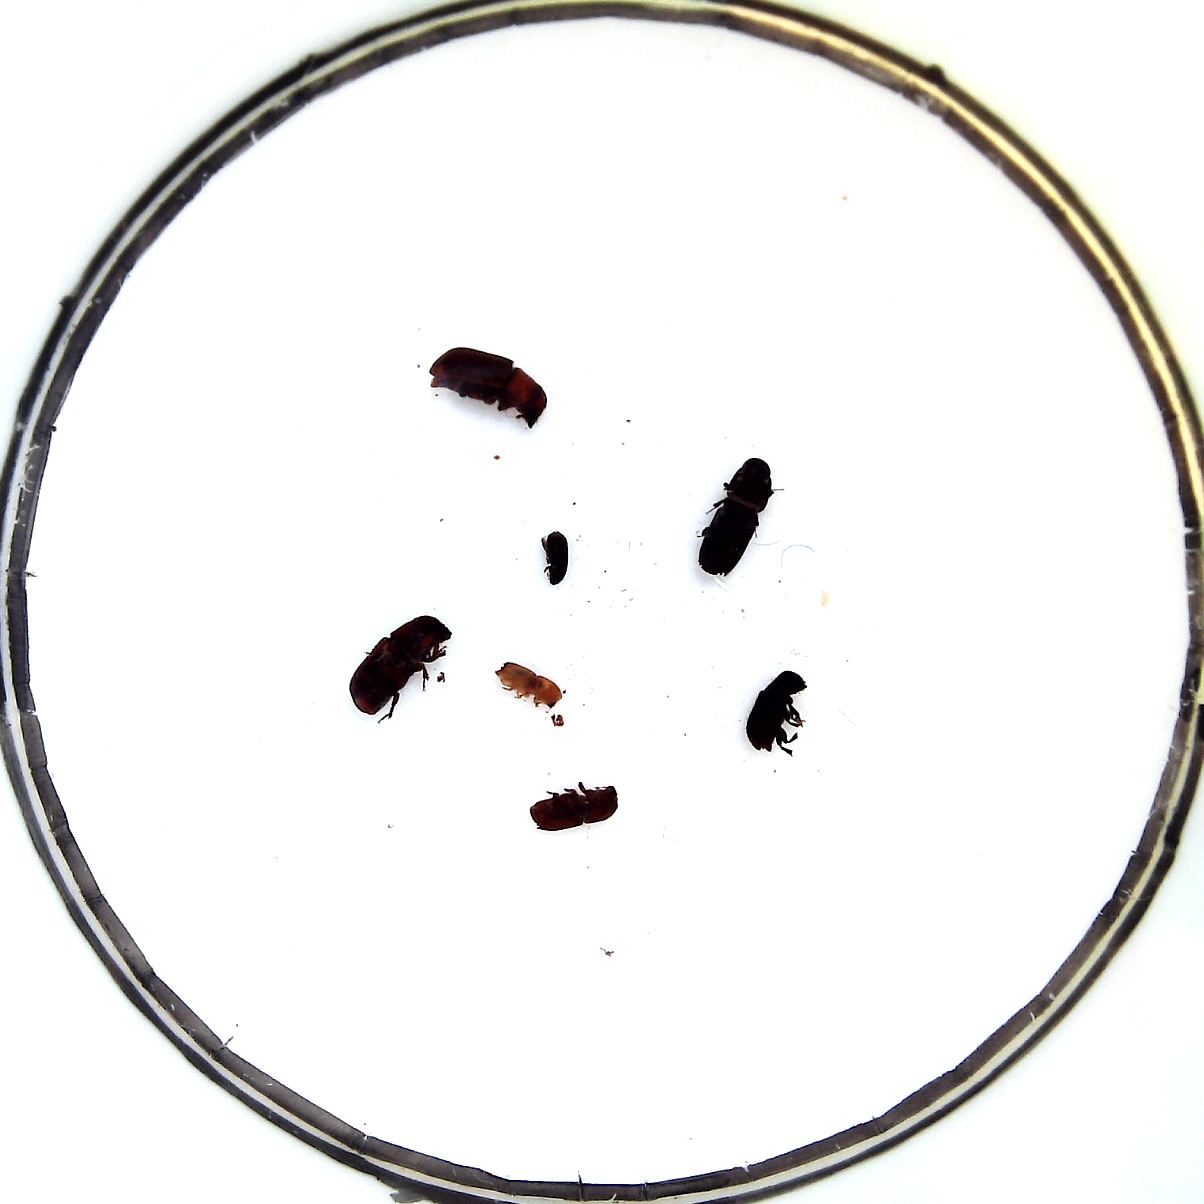Leconte: (350, 615, 452, 714), (430, 347, 546, 429)
acuminatus: (545, 531, 568, 585)
armandi: (748, 671, 807, 752)
coleoptera: (496, 662, 562, 710)
linnaeus: (698, 458, 775, 578), (530, 786, 619, 831)
